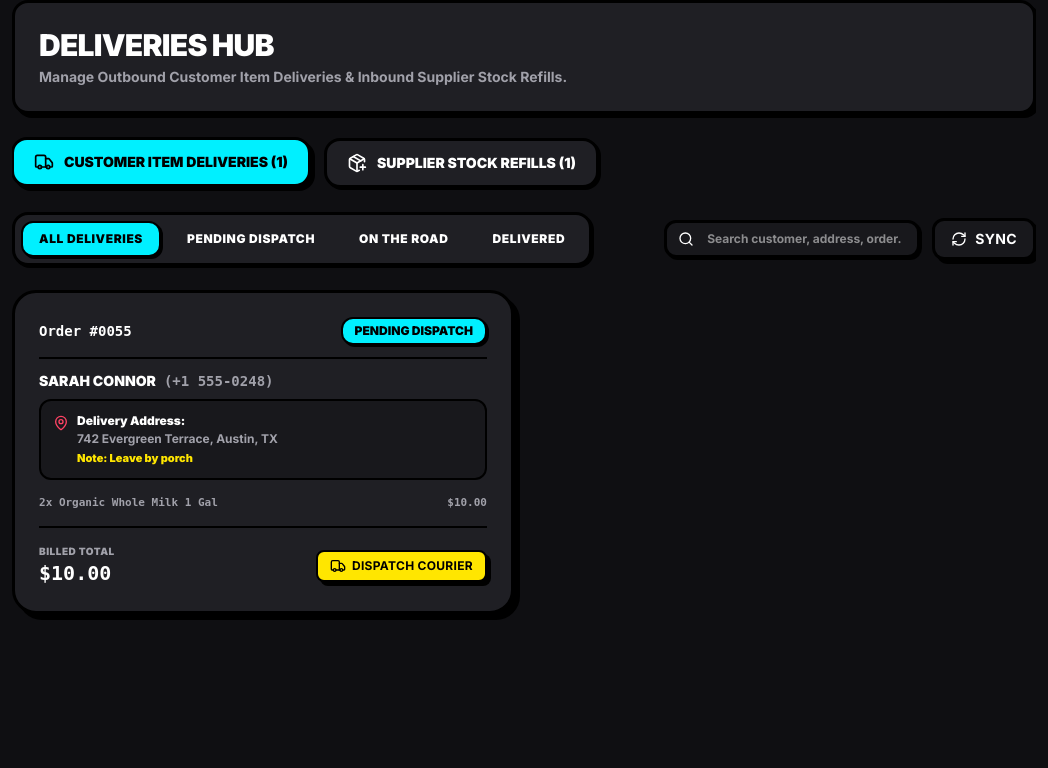
Test: DeliveriesPage Component › switches to Supplier Stock Refills tab and displays refill records
Click the button "Supplier Stock Refills (1)": (461, 163) [324,138,599,188]
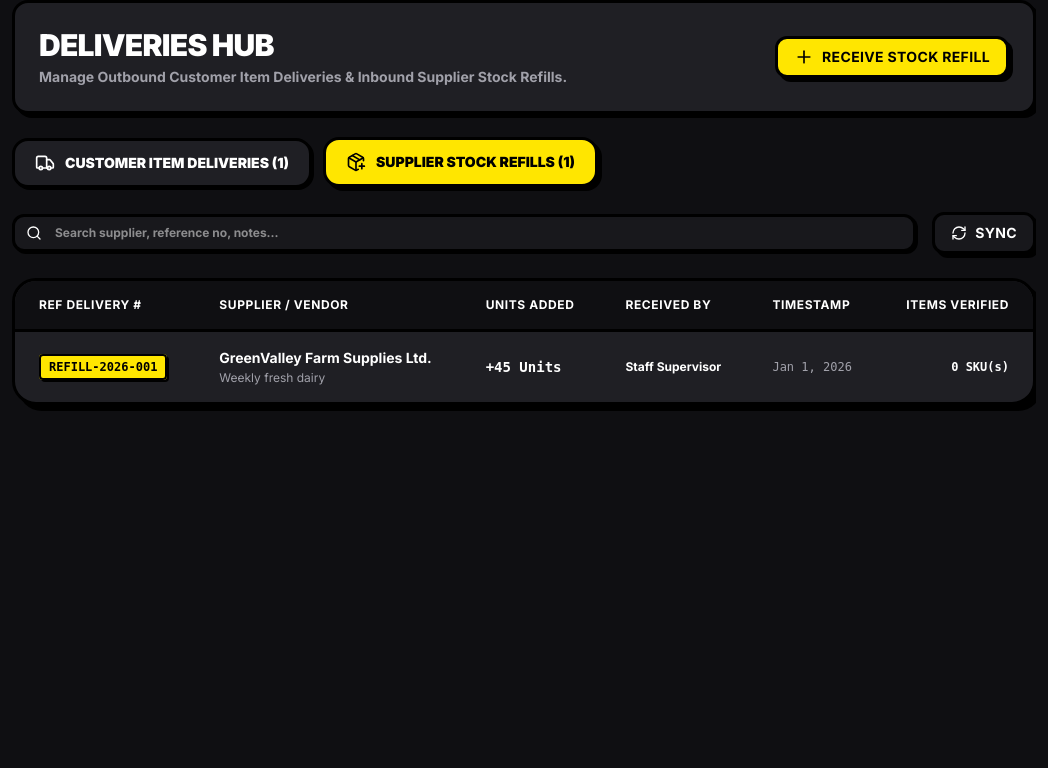
Expected: the text "REFILL-2026-001" is shown, [39,354,167,380]
Expected: the text "GreenValley Farm Supplies Ltd." is shown, [219,349,432,366]
Expected: the text "+45 Units" is shown, [462,330,602,402]
